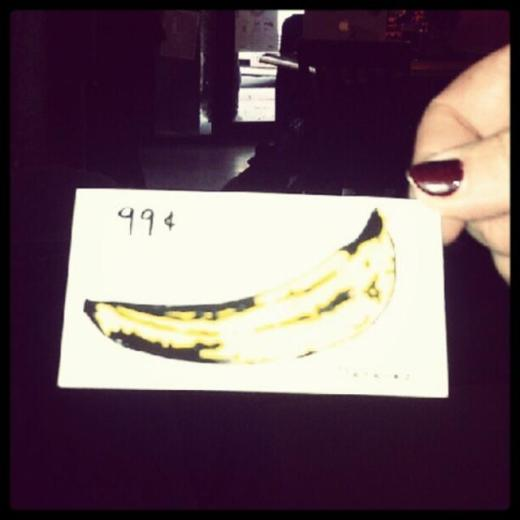Banana: (72, 196, 415, 375)
